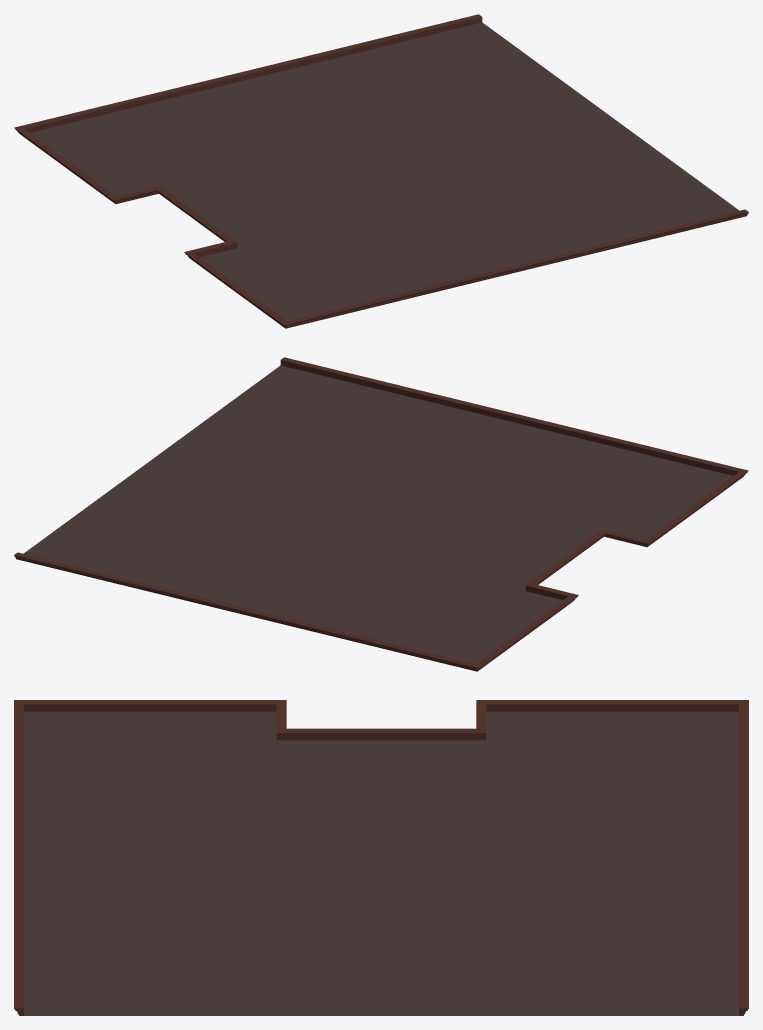
Rendered from BuildingBig3_4.fbx.
3 renders of one model, top to bottom at view 1: azimuth 30°, elevation 25°; view 2: azimuth 150°, elevation 25°; view 3: azimuth 270°, elevation 25°, orthographic. The views are drawn at different scales.
Parts seen in each view (by area): view 1: BuildingBig3_4; view 2: BuildingBig3_4; view 3: BuildingBig3_4.
Boxes of the visible parts, x1,y1,x2,y2 form: BuildingBig3_4: [14, 14, 748, 328]; BuildingBig3_4: [14, 357, 748, 671]; BuildingBig3_4: [14, 700, 748, 1015].
Size of the model in its own units: 6124 by 69.12 by 6168.
